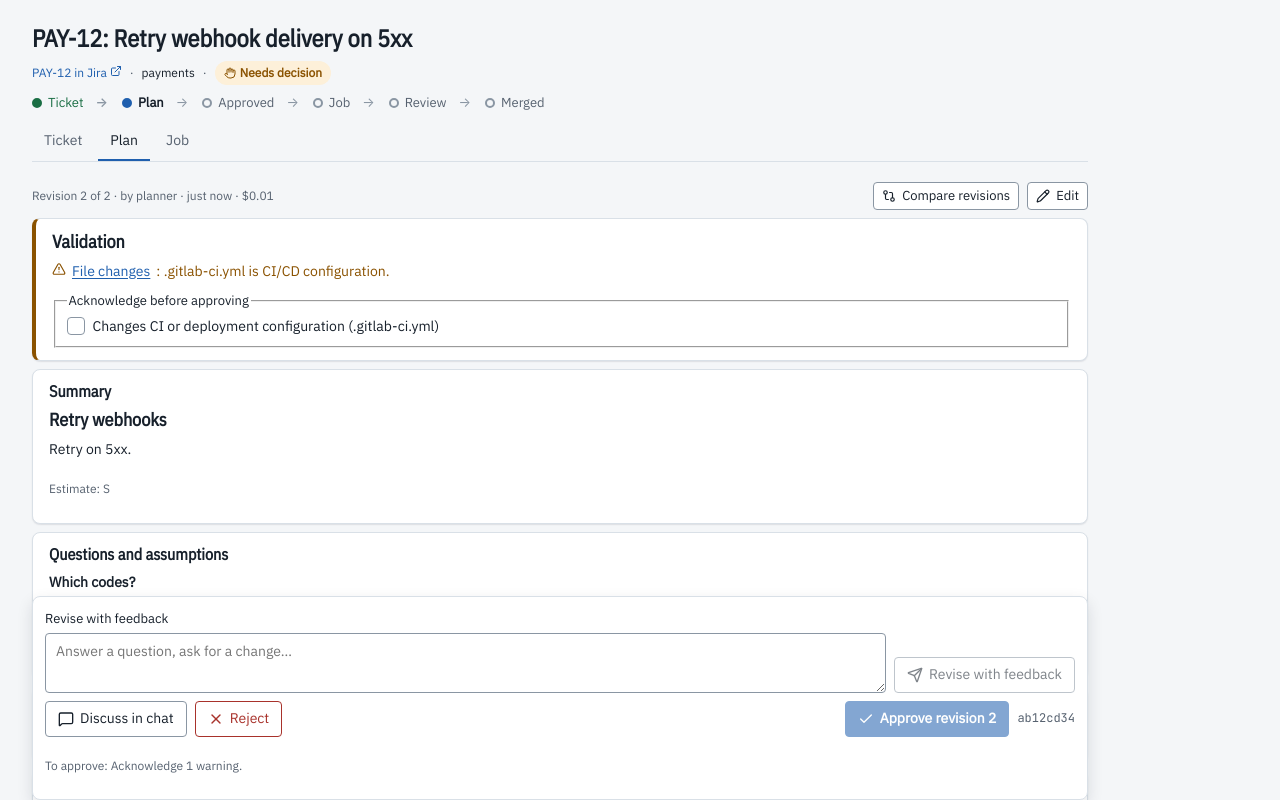
Test: Plan tab › revises with feedback and keeps the unsent text as a draft
Step 1. Type "Give up after three attempts." into the text box labelled "Revise with feedback" → x=466, y=663, box x1=45 y1=633 x2=886 y2=692
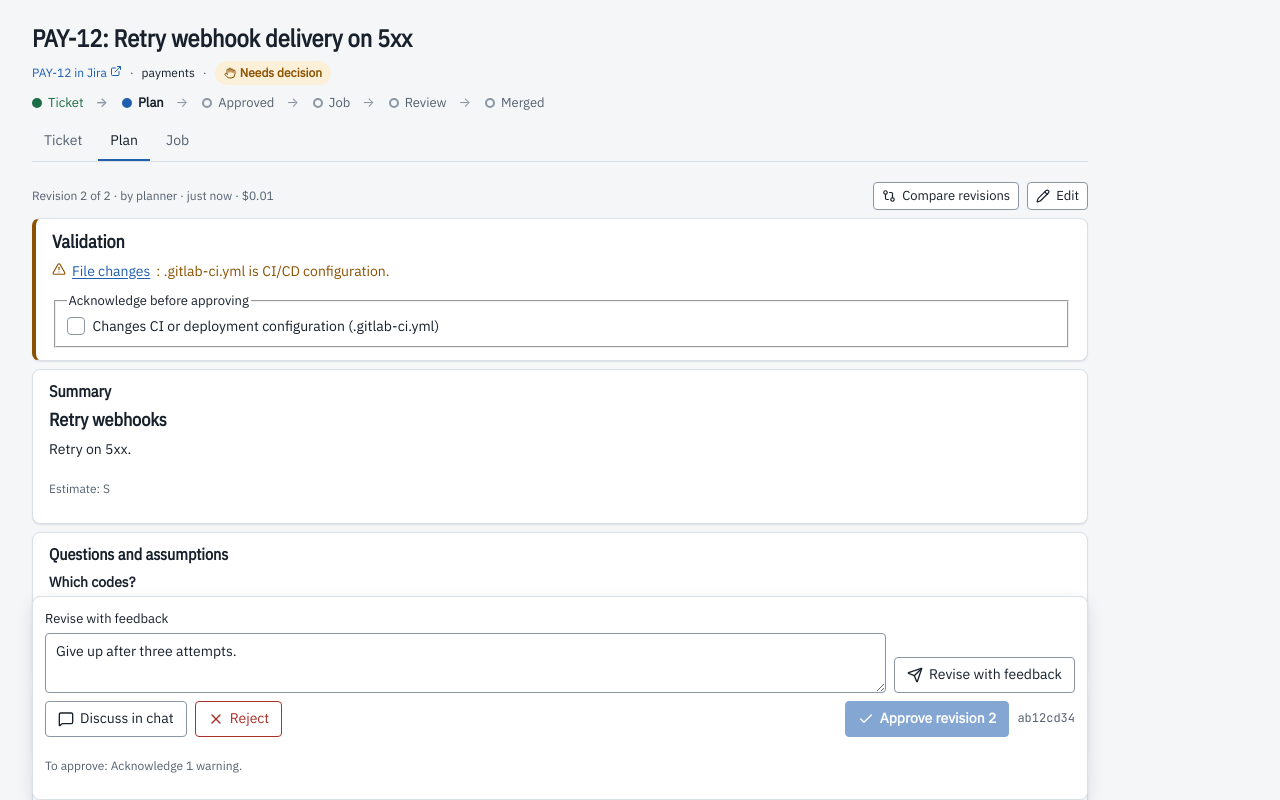
Step 2. Click the button "Revise with feedback" → x=985, y=674, box x1=894 y1=656 x2=1075 y2=692
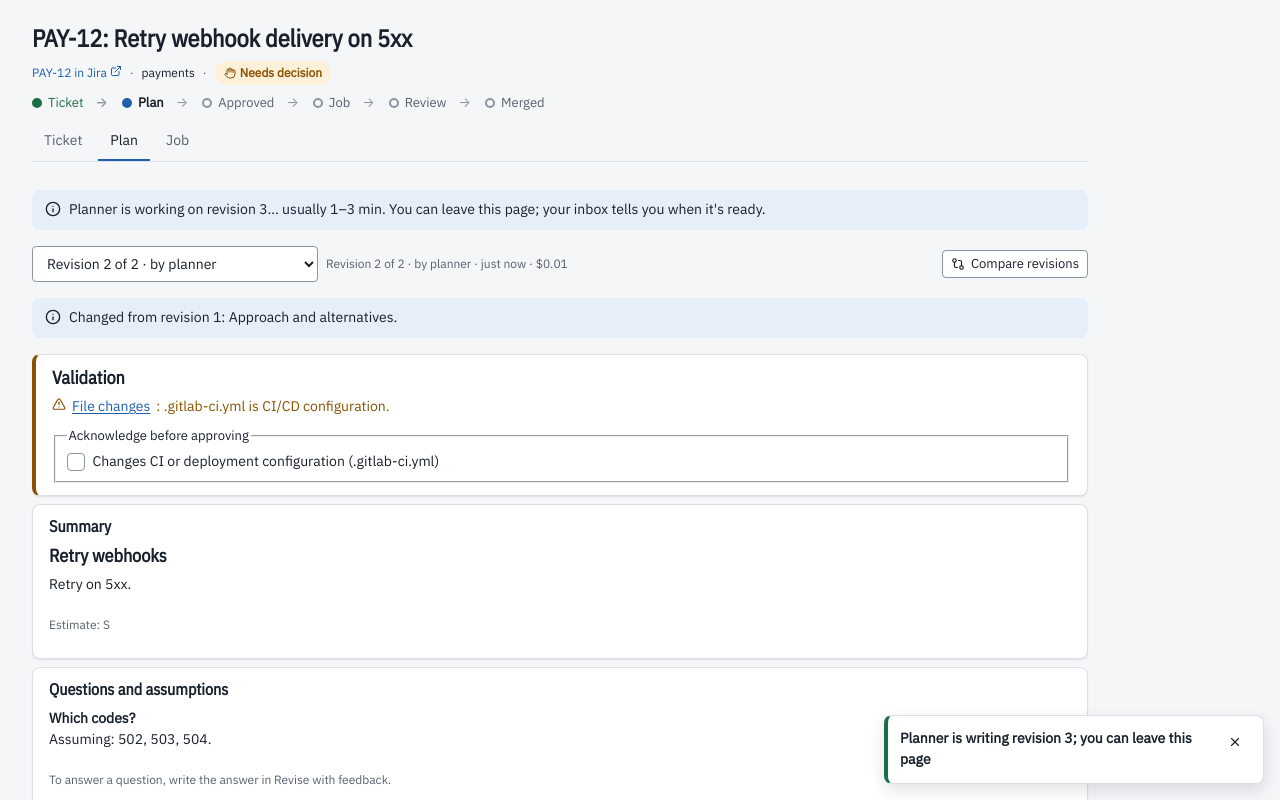
Now the text "Planner is writing revision 3; you can leave this page" is shown, box x1=900 y1=729 x2=1192 y2=768
Now the text "Planner is working on revision 3" is shown, box x1=69 y1=200 x2=766 y2=218
Now the button "Approve revision" is gone
